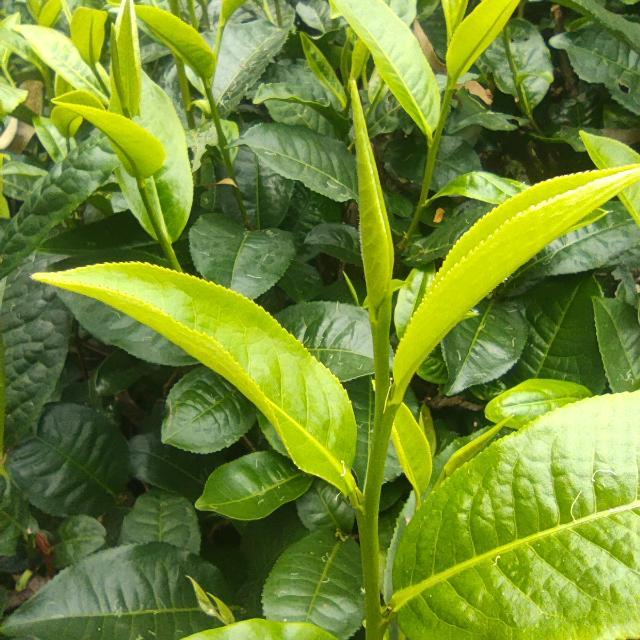Stem: (368, 409, 397, 463), (442, 87, 454, 114), (139, 186, 152, 209), (205, 88, 215, 107)
